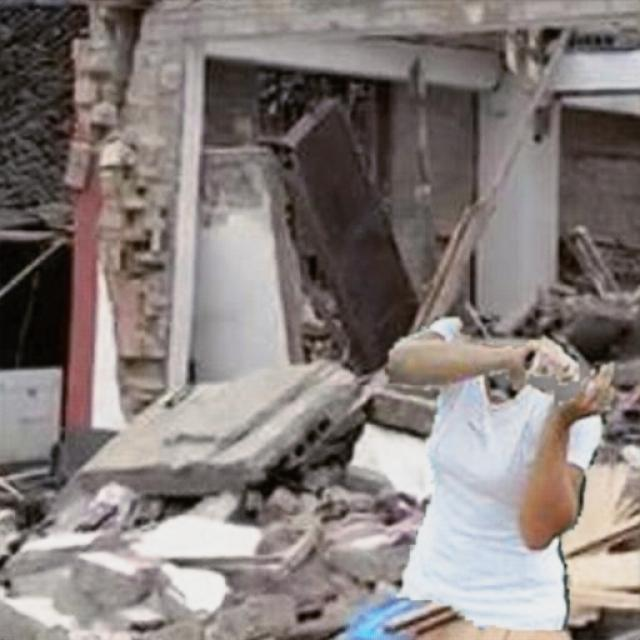Person in Rubble: (385, 317, 613, 628)
